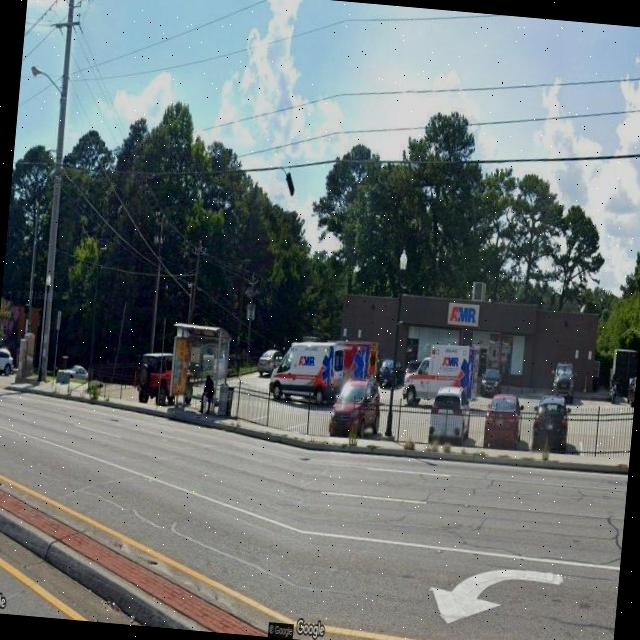seating: (202, 396, 218, 414)
shelter: (166, 321, 233, 416)
trash_can: (216, 382, 228, 417), (225, 386, 234, 417)
